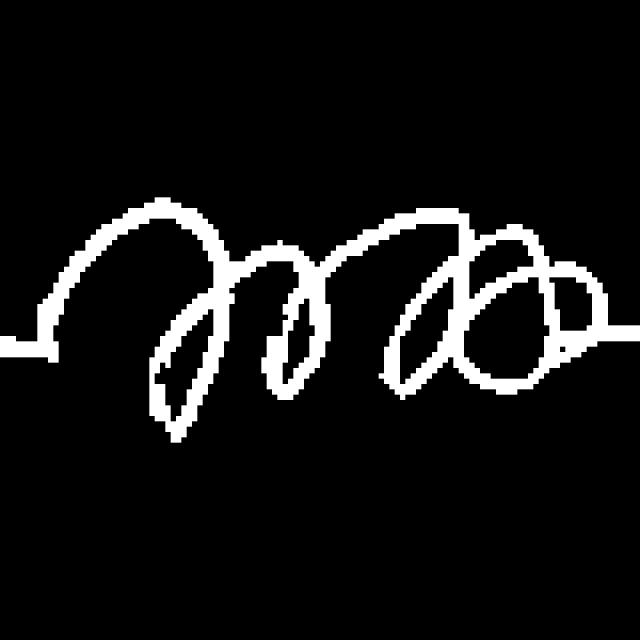inductor: (26, 154, 609, 453)
